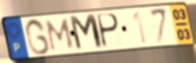1: (133, 11, 148, 44)
7: (149, 6, 169, 46)
G: (24, 17, 52, 57)
M: (68, 13, 106, 53), (45, 18, 76, 53)
P: (96, 12, 121, 49)
